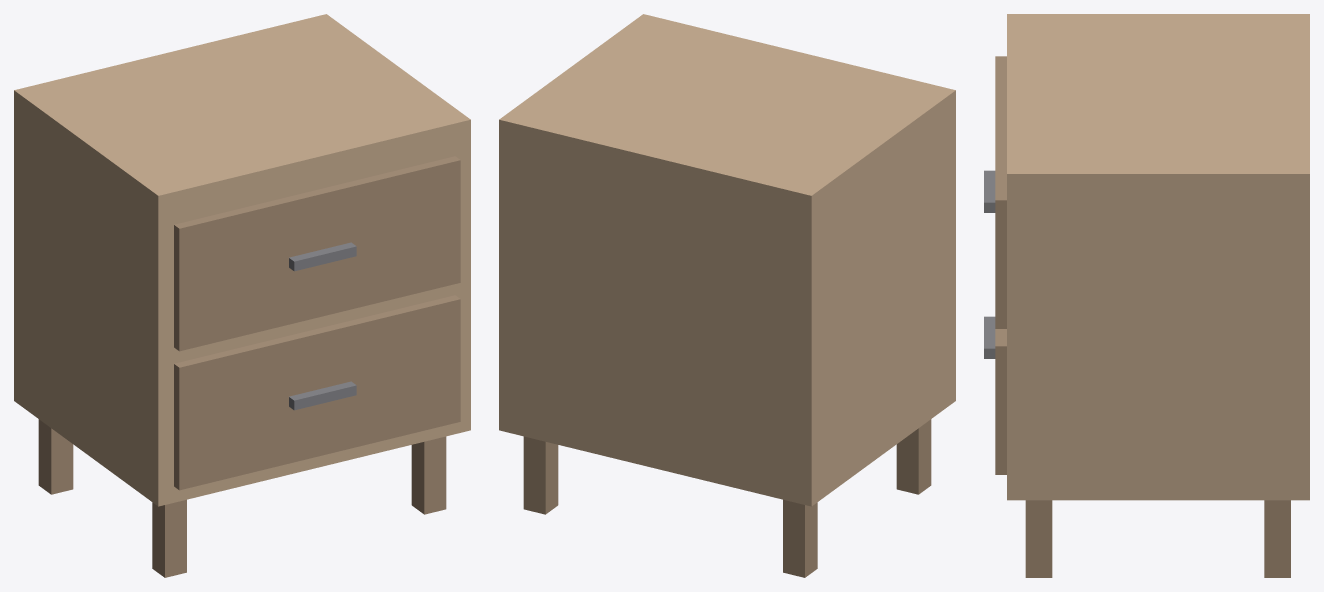
Rendered from nightstand.glb.
3 views of the same model, side by side, from view 1: azimuth 30°, elevation 25°; view 2: azimuth 150°, elevation 25°; view 3: azimuth 270°, elevation 25° (orthographic). The views are drawn at different scales.
Visible parts, largest first — view 1: body, drawer1, drawer2, leg (×3), pull2, pull1; view 2: body, leg (×3); view 3: body, leg (×2), drawer1, drawer2, pull1, pull2.
Part boxes in pixels (<box>): body: <box>14,14,470,506</box>; drawer1: <box>174,156,460,351</box>; drawer2: <box>174,295,460,490</box>; leg (×3): <box>38,419,446,577</box>; pull2: <box>289,381,356,410</box>; pull1: <box>289,242,356,271</box>; body: <box>499,14,955,506</box>; leg (×3): <box>523,419,931,577</box>; body: <box>1007,14,1309,500</box>; leg (×2): <box>1025,500,1290,577</box>; drawer1: <box>995,56,1006,328</box>; drawer2: <box>995,329,1006,474</box>; pull1: <box>984,170,995,212</box>; pull2: <box>984,316,995,358</box>.
Bounding box in the file's own units: 0.508 × 0.6096 × 0.4369.
